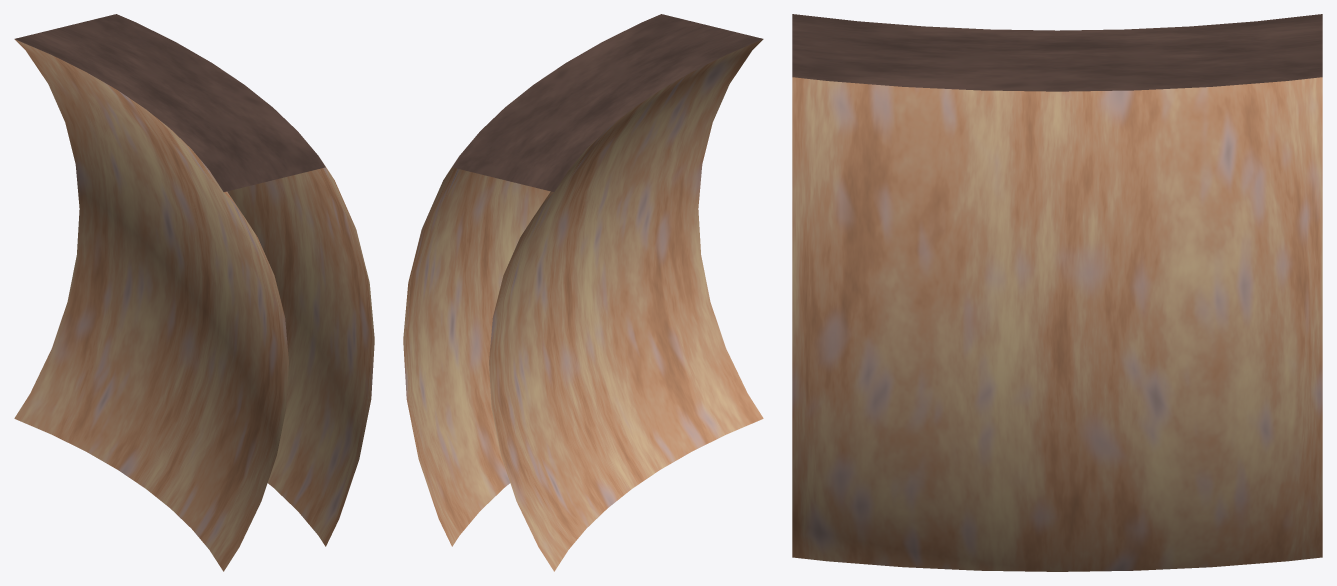
Rendered from FI_002_003_francos_building_wall.glb.
3 renders of one model, left to right at view 1: azimuth 30°, elevation 25°; view 2: azimuth 150°, elevation 25°; view 3: azimuth 270°, elevation 25°, orthographic. The views are drawn at different scales.
Parts seen in each view (by area): view 1: wall; view 2: wall; view 3: wall.
Boxes of the visible parts, <box> form: wall: <box>14,14,374,571</box>; wall: <box>403,14,763,571</box>; wall: <box>792,14,1322,571</box>.
Size of the model in its own units: 1.43 by 3 by 3.
Materials: 2 (2 with a texture image).
